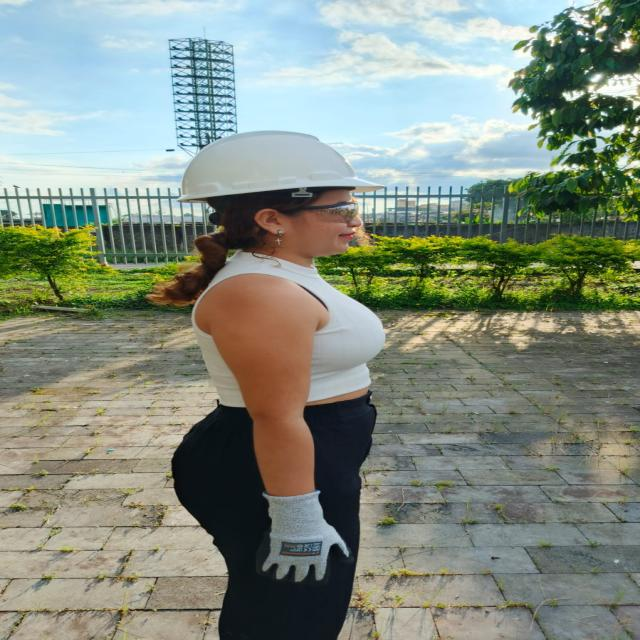gloves: (257, 490, 354, 582)
helmet: (179, 131, 384, 201)
protective_glasses: (278, 202, 358, 226)
